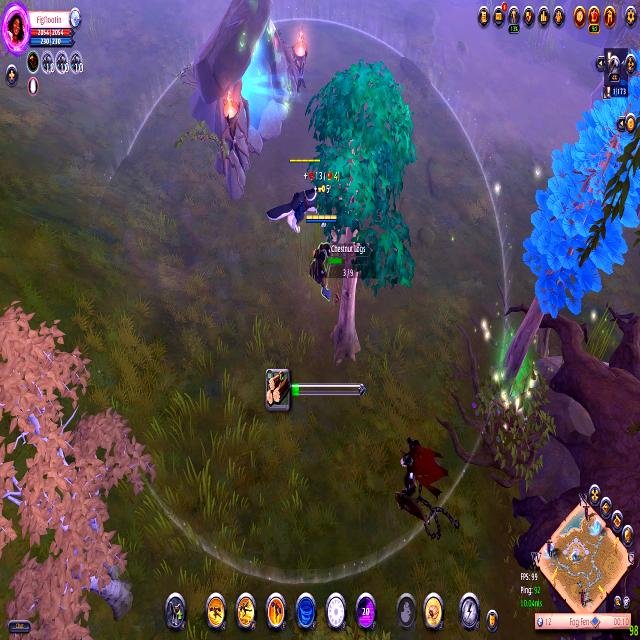ore: (392, 423, 447, 529)
red: (303, 205, 340, 302)
wisp caged: (486, 46, 640, 422), (0, 300, 141, 638), (304, 47, 416, 381)
